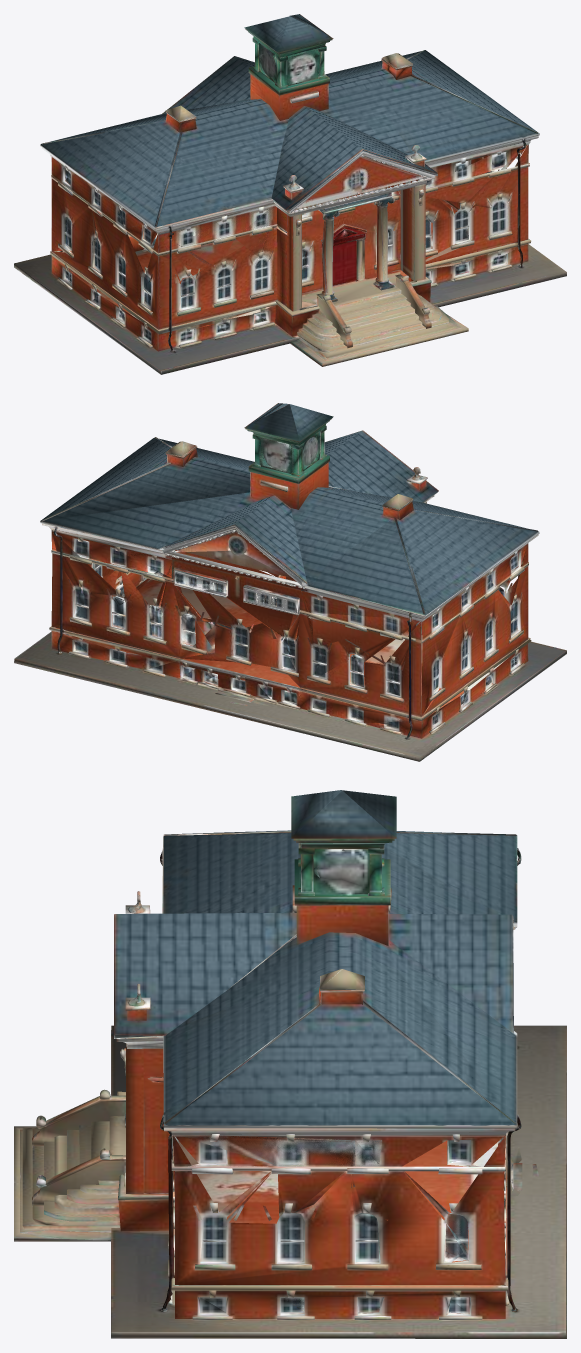
File: lm_university.glb
3 views of the same model, one above another, from view 1: azimuth 30°, elevation 25°; view 2: azimuth 150°, elevation 25°; view 3: azimuth 270°, elevation 25° (orthographic). The views are drawn at different scales.
Bounding box in the file's own units: 0.9419 × 0.5674 × 0.7178.
1 material, 1 textured.
